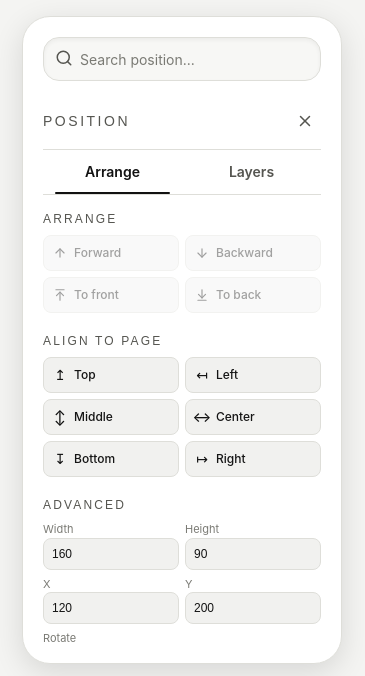
Scenario: Position panel › switches to the Layers tab
This screenshot has width=365, height=676.
Step 1. Click the button "Layers" → coordinates (252, 172), box [182, 150, 321, 194]
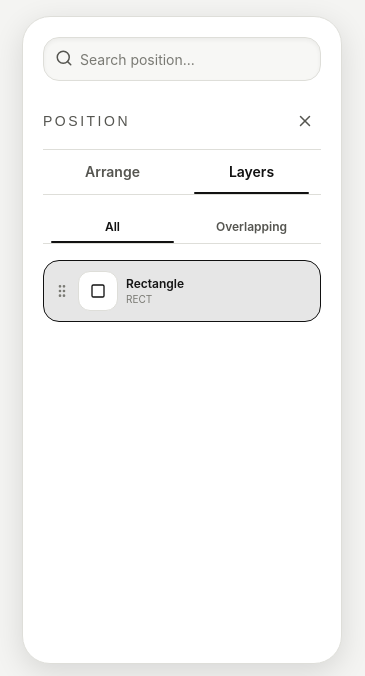
Result: the button "All" is shown at [43, 211, 182, 243]
Result: the button "Overlapping" is shown at [182, 211, 321, 243]
